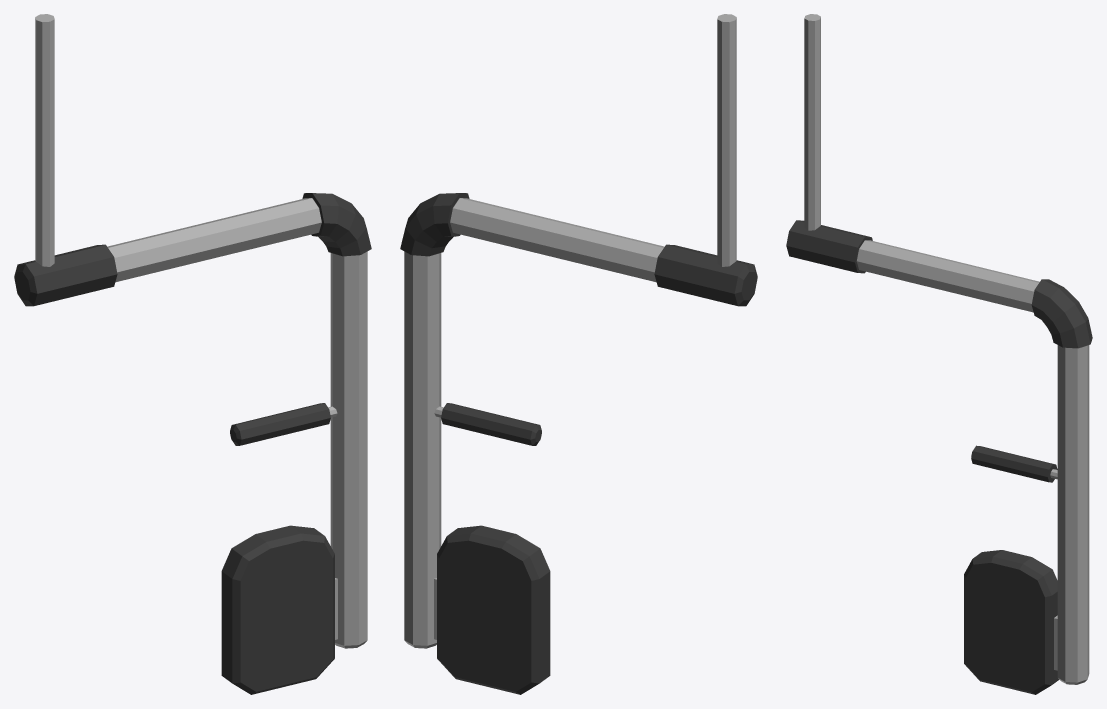
File: PecDeck_Ac_2.fbx
3 renders of one model, left to right at view 1: azimuth 30°, elevation 25°; view 2: azimuth 150°, elevation 25°; view 3: azimuth 330°, elevation 25°, orthographic. The views are drawn at different scales.
Parts seen in each view (by area): view 1: PecDeck_Ac_2; view 2: PecDeck_Ac_2; view 3: PecDeck_Ac_2.
Part boxes in pixels (box(x1,y1,x2,y2)): PecDeck_Ac_2: box(14, 14, 371, 694); PecDeck_Ac_2: box(400, 14, 757, 694); PecDeck_Ac_2: box(786, 14, 1092, 694).
Bounding box in the file's own units: 52.18 × 104 × 6.17.
